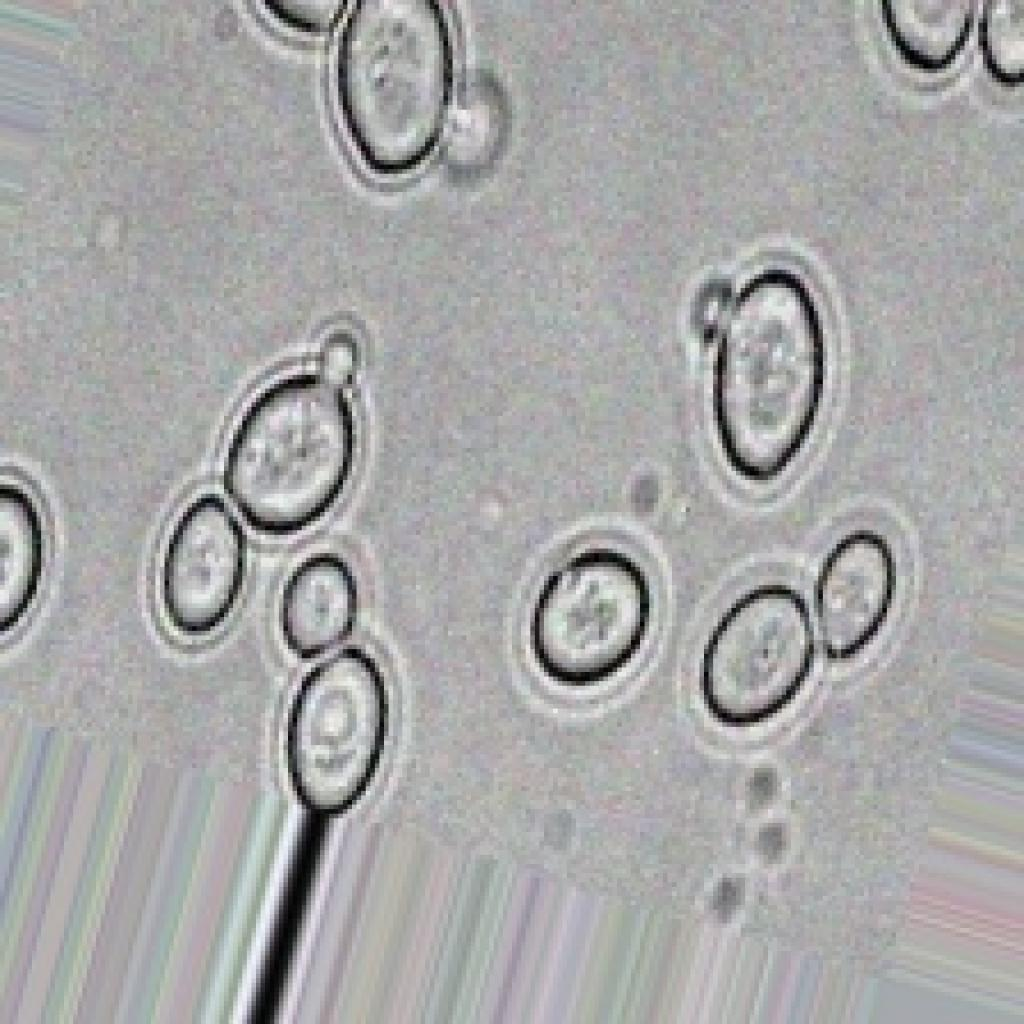Yeast: (4, 4, 1024, 1024)
